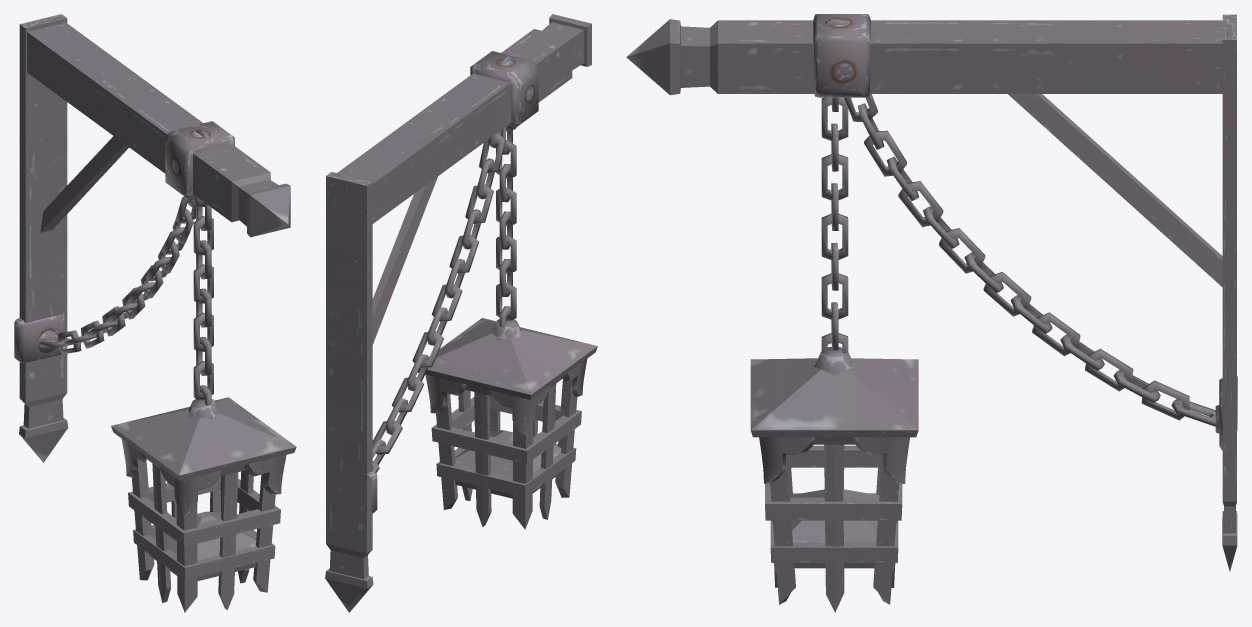
The model's file is Lantern_Wall.glb.
The picture shows the model from 3 angles, left to right: view 1: azimuth 30°, elevation 25°; view 2: azimuth 150°, elevation 25°; view 3: azimuth 270°, elevation 25°; orthographic projection. The views are drawn at different scales.
Visible parts, largest first — view 1: Lantern_Wall; view 2: Lantern_Wall; view 3: Lantern_Wall.
Boxes of the visible parts, <box> form: Lantern_Wall: <box>14,14,296,612</box>; Lantern_Wall: <box>325,14,597,612</box>; Lantern_Wall: <box>626,14,1237,612</box>.
Bounding box in the file's own units: 0.3573 × 1.34 × 1.3.
Materials: 1 (1 with a texture image).
